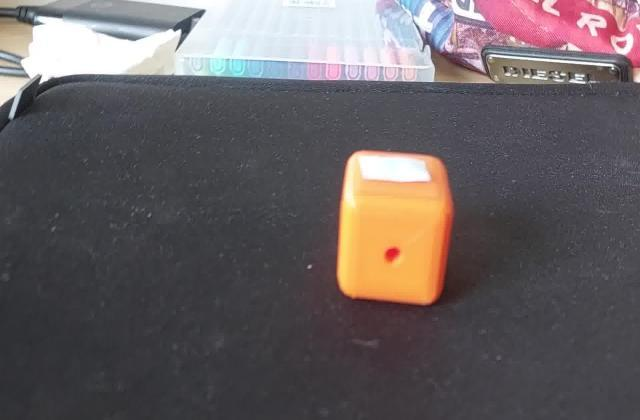cube: (333, 146, 456, 311)
white: (354, 156, 433, 188)
